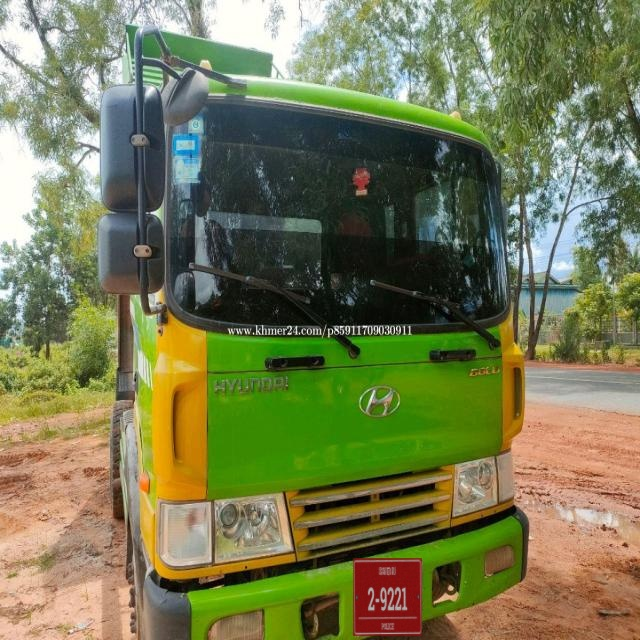Plate Number: (354, 558, 422, 637)
